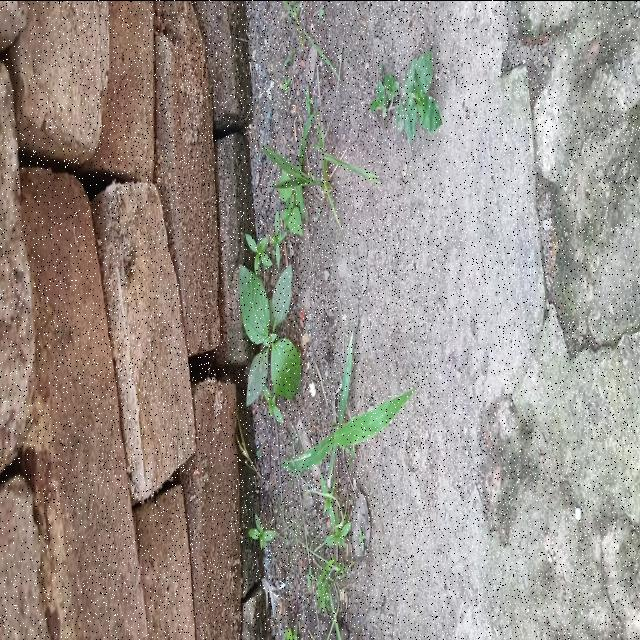plant: (239, 264, 301, 421)
